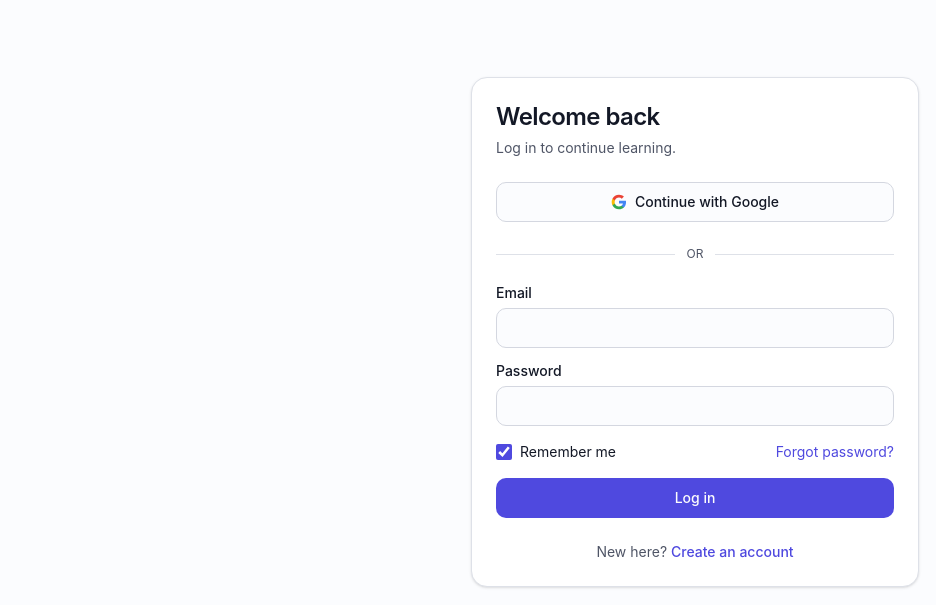
Test case: LoginPage › redirects ["admin"] to the right dashboard
Type "x@example.com" into the field labelled "Email". click: x=695, y=328
box: [496,308,894,348]
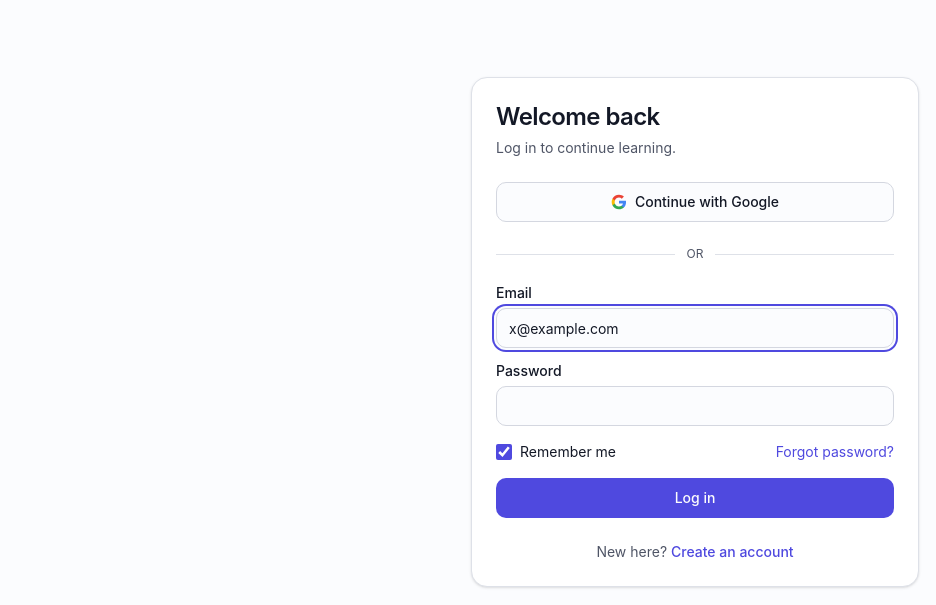
Type "password1" into the password field labelled "Password". click: x=695, y=406
box: [496,386,894,426]
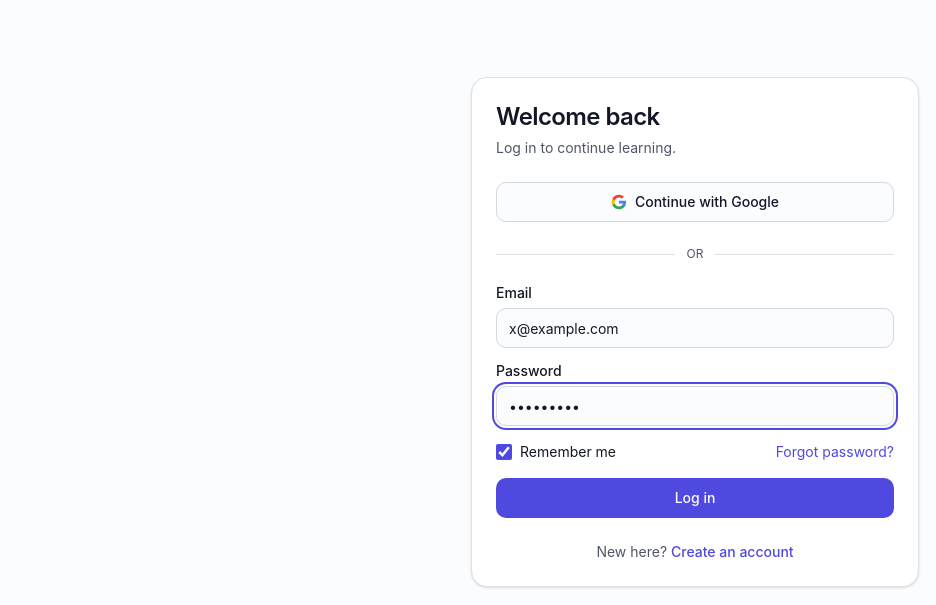
Click the button "Log in". click: x=695, y=498
box: [496,478,894,518]
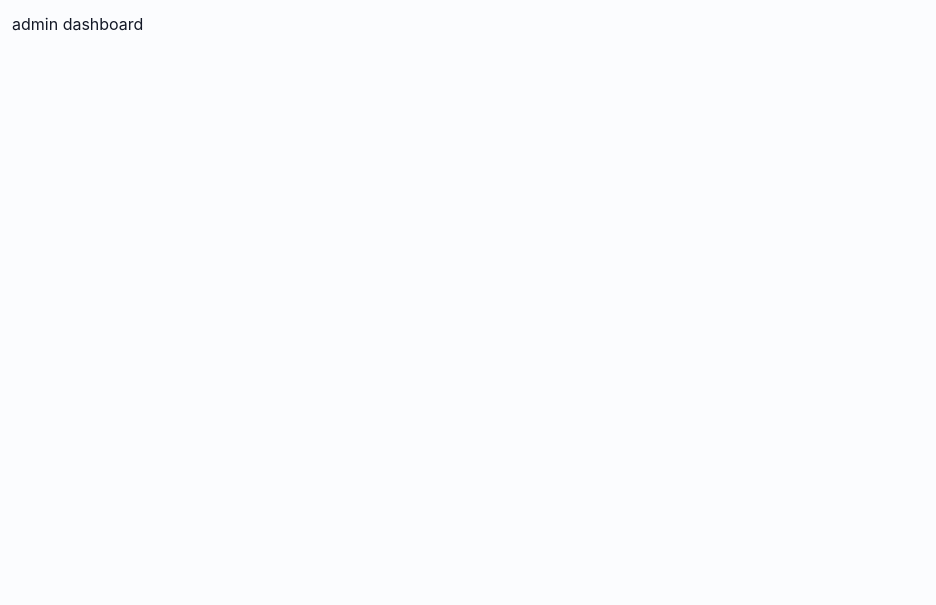
Expected: the text "admin dashboard" is shown, [12,14,143,34]
